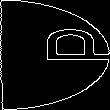P_W: (5, 37, 105, 73)
